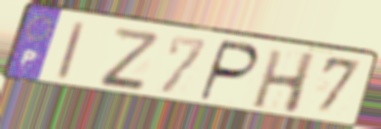7: (315, 54, 366, 120), (158, 33, 209, 96)
H: (249, 48, 319, 117)
I: (54, 19, 88, 83)
P: (195, 38, 262, 104)
Z: (97, 25, 160, 90)
